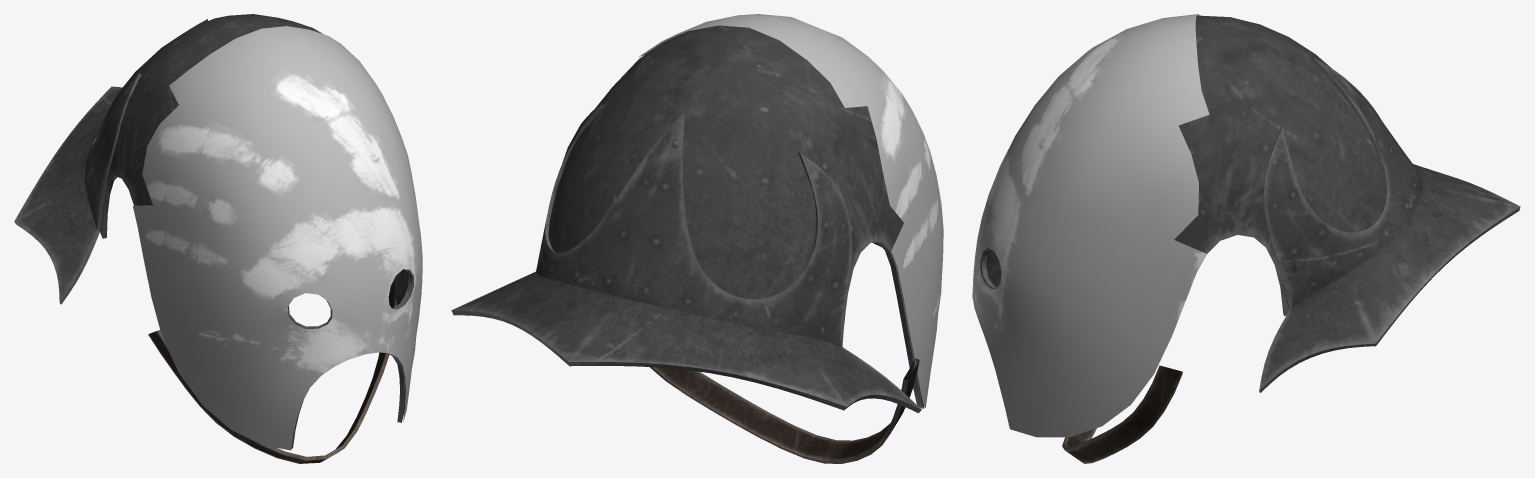
Rendered from sk_uruk_hai_helmet_bers_a2.fbx.
3 views of the same model, side by side, from view 1: azimuth 30°, elevation 25°; view 2: azimuth 150°, elevation 25°; view 3: azimuth 270°, elevation 25° (orthographic). The views are drawn at different scales.
Visible parts, largest first — view 1: sk_uruk_hai_helmet_bers_a2.1, sk_uruk_hai_helmet_bers_a2.0, sk_uruk_hai_helmet_bers_a2.2; view 2: sk_uruk_hai_helmet_bers_a2.0, sk_uruk_hai_helmet_bers_a2.1, sk_uruk_hai_helmet_bers_a2.2; view 3: sk_uruk_hai_helmet_bers_a2.1, sk_uruk_hai_helmet_bers_a2.0, sk_uruk_hai_helmet_bers_a2.2.
Boxes of the visible parts, x1=… form: sk_uruk_hai_helmet_bers_a2.1: x1=133, y1=26, x2=422, y2=450; sk_uruk_hai_helmet_bers_a2.0: x1=14, y1=14, x2=413, y2=449; sk_uruk_hai_helmet_bers_a2.2: x1=148, y1=280, x2=396, y2=463; sk_uruk_hai_helmet_bers_a2.0: x1=451, y1=25, x2=924, y2=413; sk_uruk_hai_helmet_bers_a2.1: x1=638, y1=14, x2=943, y2=408; sk_uruk_hai_helmet_bers_a2.2: x1=649, y1=358, x2=919, y2=463; sk_uruk_hai_helmet_bers_a2.1: x1=972, y1=14, x2=1209, y2=437; sk_uruk_hai_helmet_bers_a2.0: x1=980, y1=15, x2=1520, y2=392; sk_uruk_hai_helmet_bers_a2.2: x1=1062, y1=365, x2=1182, y2=463.
Size of the model in its own units: 0.2672 by 0.339 by 0.294.
3 materials, 3 textured.
